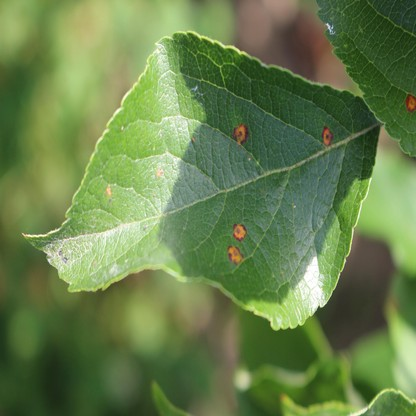powdery_mildew: (45, 222, 134, 281)
rust: (227, 245, 242, 264), (233, 124, 247, 144), (321, 124, 332, 147), (233, 222, 247, 240), (406, 94, 416, 112), (105, 185, 111, 195), (155, 167, 162, 175), (190, 135, 195, 141)
